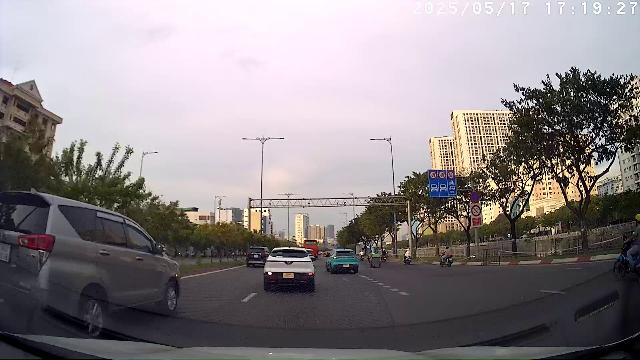127-toc-do-toi-da-50: (448, 171, 454, 179)
127-toc-do-toi-da-60: (438, 171, 446, 179), (429, 172, 436, 178)
130-cam-dung-va-do-xe: (470, 192, 480, 202)
